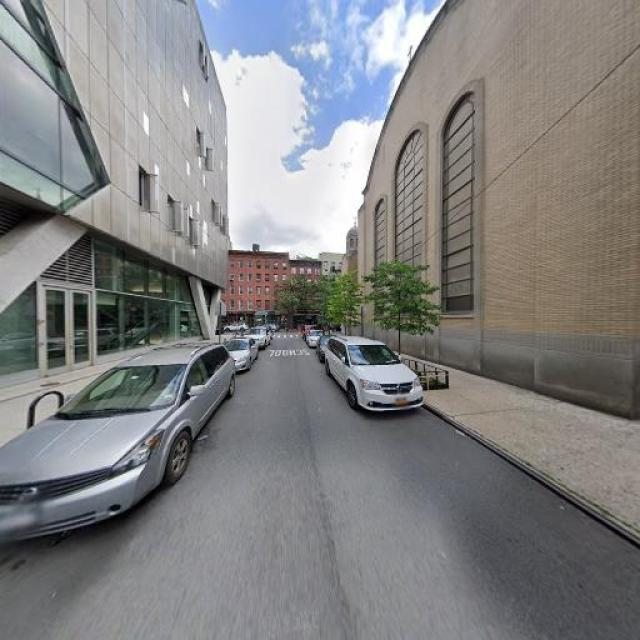Building: (358, 1, 640, 417), (1, 1, 229, 388), (234, 252, 262, 328), (290, 258, 319, 328), (322, 257, 348, 328), (264, 253, 282, 328)
